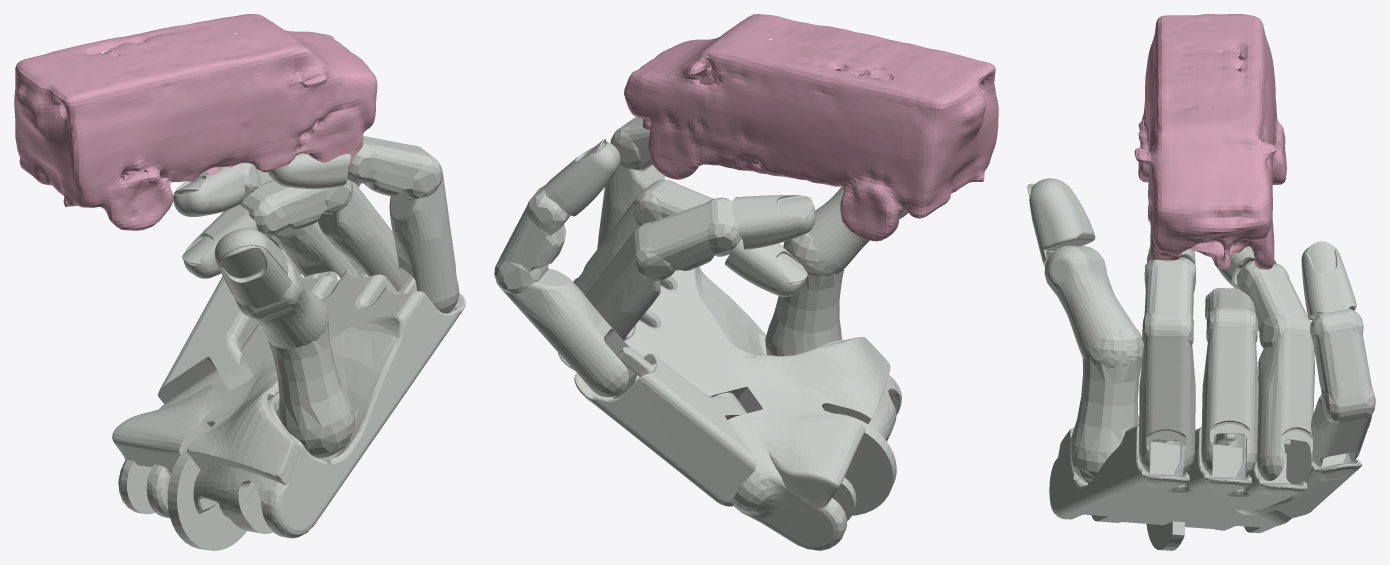
The picture shows the model from 3 angles, left to right: view 1: azimuth 30°, elevation 25°; view 2: azimuth 150°, elevation 25°; view 3: azimuth 270°, elevation 25°; orthographic projection. The views are drawn at different scales.
Parts seen in each view (by area): view 1: hand, world; view 2: hand, world; view 3: hand, world.
Part boxes in pixels (x1=…): hand: x1=112, y1=136, x2=465, y2=550; world: x1=14, y1=14, x2=377, y2=230; hand: x1=494, y1=117, x2=908, y2=550; world: x1=624, y1=14, x2=998, y2=241; hand: x1=1027, y1=178, x2=1375, y2=550; world: x1=1134, y1=14, x2=1286, y2=269.
Bounding box in the file's own units: 0.1597 × 0.1812 × 0.1234.
